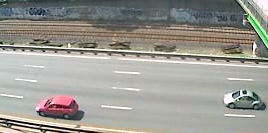car: (34, 94, 81, 120), (220, 87, 266, 111)
